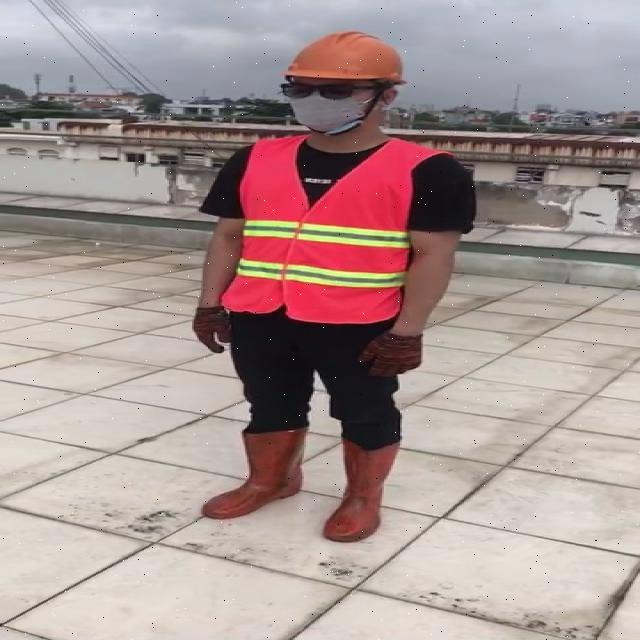Hard_hat: (276, 25, 415, 94)
Person: (190, 28, 480, 637)
Vest: (236, 128, 420, 327)
